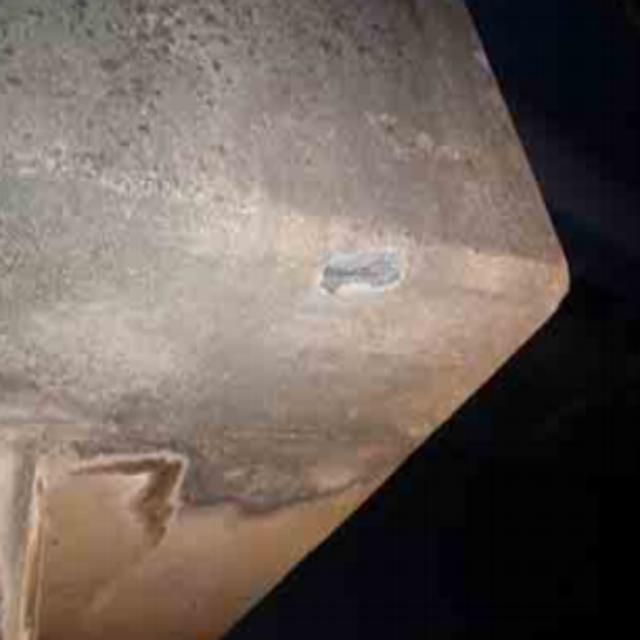spalling: (296, 230, 426, 307)
